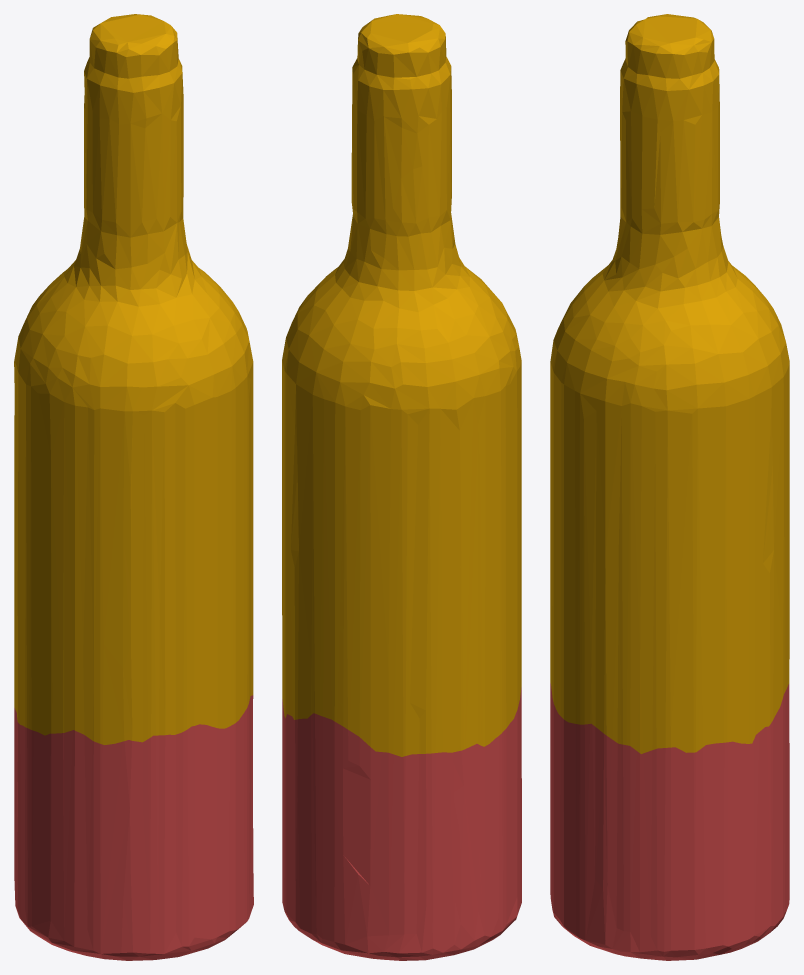
The model's file is fractured_71_2pcs.glb.
The picture shows the model from 3 angles, left to right: view 1: azimuth 30°, elevation 25°; view 2: azimuth 150°, elevation 25°; view 3: azimuth 270°, elevation 25°; orthographic projection.
Parts seen in each view (by area): view 1: piece_0.obj, piece_1.obj; view 2: piece_0.obj, piece_1.obj; view 3: piece_0.obj, piece_1.obj.
Boxes of the visible parts, bbox=[...] form: piece_0.obj: bbox=[14, 14, 253, 744]; piece_1.obj: bbox=[14, 695, 253, 960]; piece_0.obj: bbox=[282, 14, 521, 756]; piece_1.obj: bbox=[282, 687, 521, 960]; piece_0.obj: bbox=[550, 14, 789, 753]; piece_1.obj: bbox=[550, 683, 789, 960].
Size of the model in its own units: 0.2438 by 1 by 0.2439.
